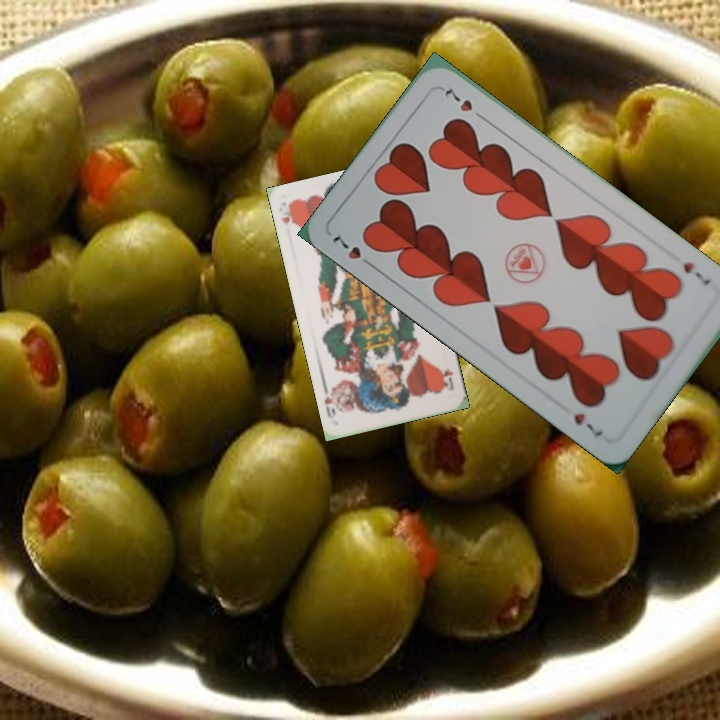H7: (327, 231, 378, 271), (679, 258, 714, 288)
HO: (435, 363, 456, 393), (277, 199, 298, 228)
